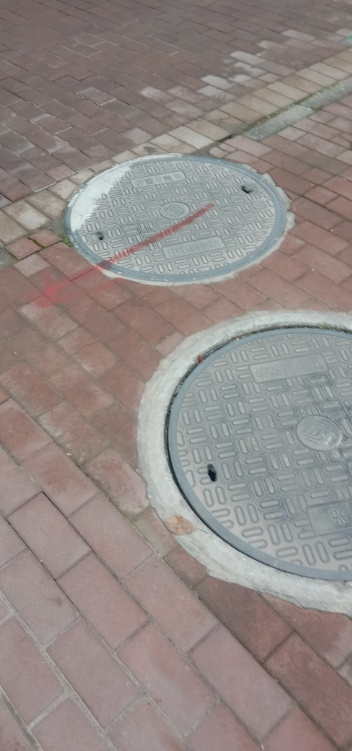well: (142, 318, 346, 600), (65, 154, 292, 282)
